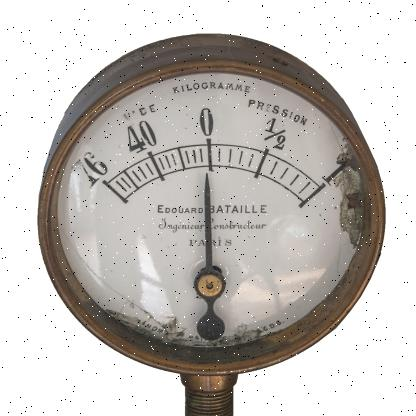needle: (205, 172, 214, 267)
